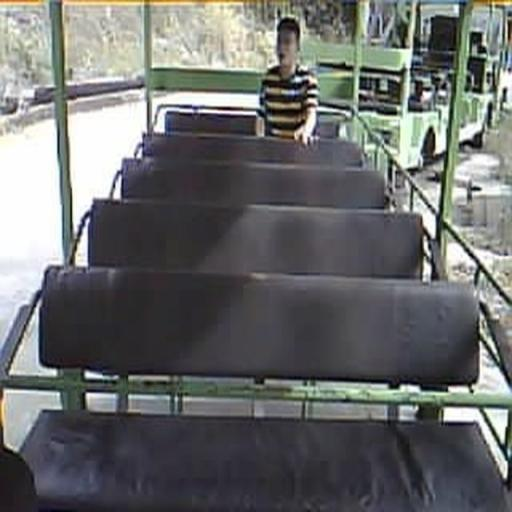persona: (254, 16, 321, 147)
